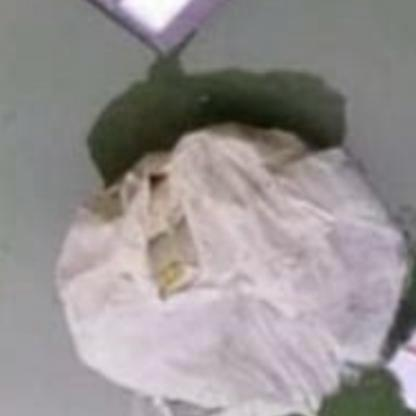Trash: (56, 117, 402, 407)
